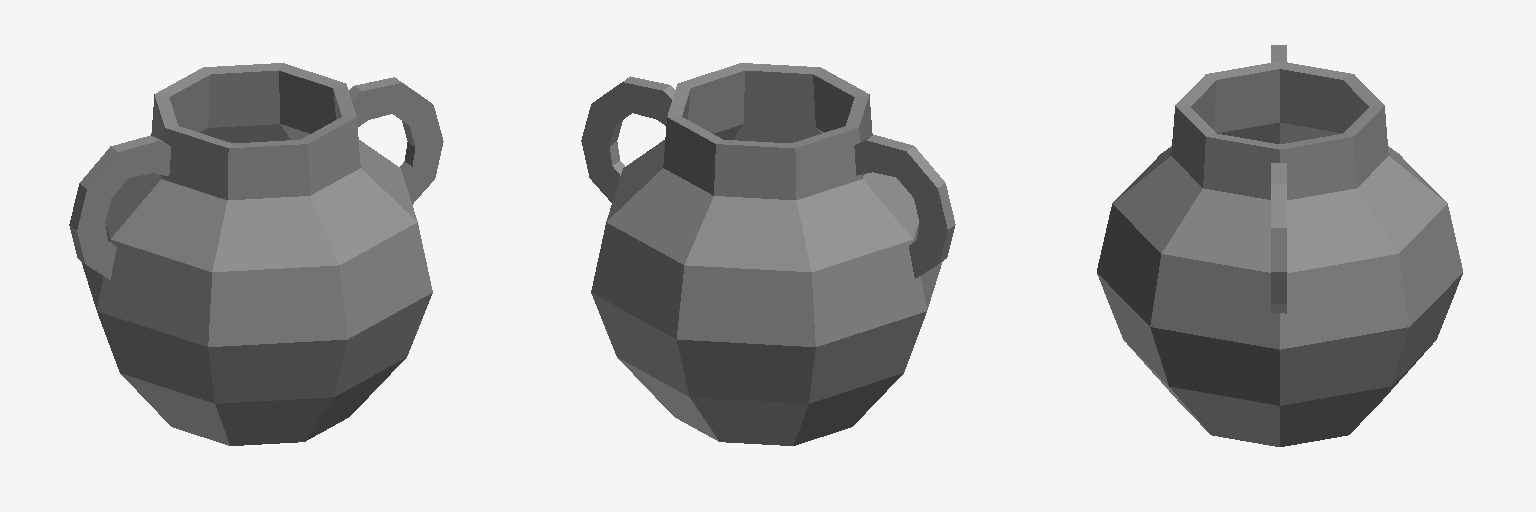
Rendered from pot_01.obj.
The picture shows the model from 3 angles: view 1: azimuth 30°, elevation 25°; view 2: azimuth 150°, elevation 25°; view 3: azimuth 270°, elevation 25°; orthographic projection.
Bounding box in the file's own units: 0.3427 × 0.2687 × 0.2972.